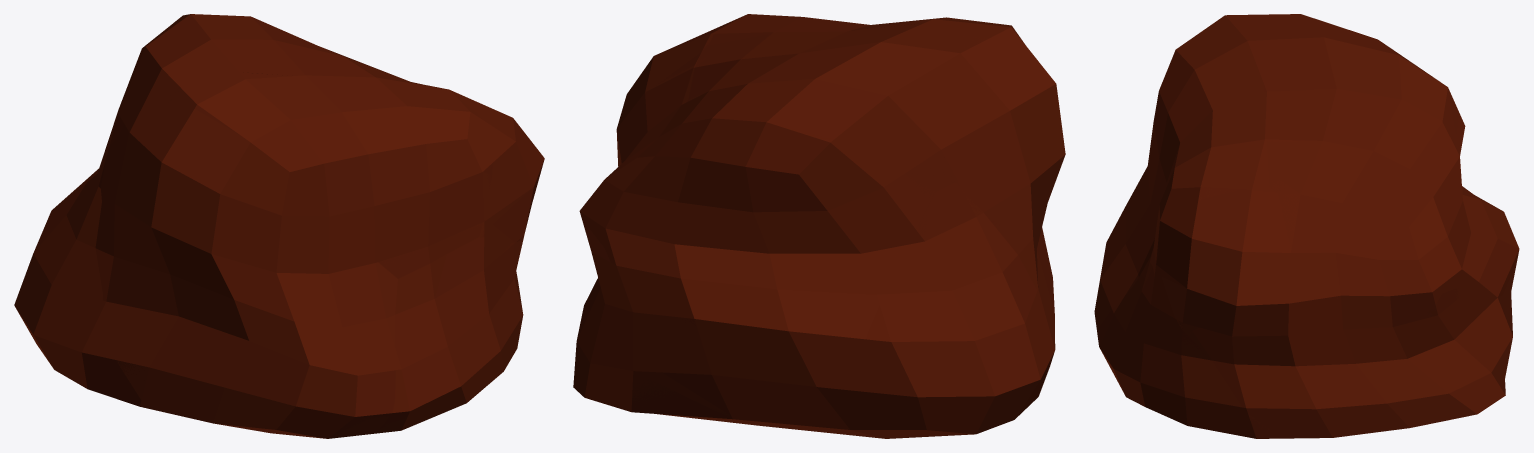
File: redRock breakable.fbx
The picture shows the model from 3 angles, left to right: view 1: azimuth 30°, elevation 25°; view 2: azimuth 150°, elevation 25°; view 3: azimuth 270°, elevation 25°; orthographic projection. The views are drawn at different scales.
Parts seen in each view (by area): view 1: redRock, redRock_cell.004, redRock_cell, redRock_cell.009, redRock_cell.001, redRock_cell.006, redRock_cell.002; view 2: redRock, redRock_cell.005, redRock_cell.001, redRock_cell.006, redRock_cell.004, redRock_cell.007, redRock_cell.003, redRock_cell.009, redRock_cell.002; view 3: redRock, redRock_cell.006, redRock_cell, redRock_cell.009, redRock_cell.003, redRock_cell.002, redRock_cell.004, redRock_cell.007, redRock_cell.008, redRock_cell.005.
Boxes of the visible parts, bbox=[...] form: redRock: bbox=[14, 14, 544, 438]; redRock_cell.004: bbox=[101, 124, 397, 438]; redRock_cell: bbox=[375, 237, 523, 433]; redRock_cell.009: bbox=[173, 72, 492, 278]; redRock_cell.001: bbox=[15, 145, 145, 407]; redRock_cell.006: bbox=[109, 39, 429, 145]; redRock_cell.002: bbox=[441, 88, 544, 242]; redRock: bbox=[573, 17, 1065, 438]; redRock_cell.005: bbox=[656, 122, 935, 421]; redRock_cell.001: bbox=[748, 182, 1055, 436]; redRock_cell.006: bbox=[670, 23, 991, 185]; redRock_cell.004: bbox=[961, 108, 1054, 320]; redRock_cell.007: bbox=[578, 228, 750, 424]; redRock_cell.003: bbox=[645, 53, 700, 131]; redRock_cell.009: bbox=[714, 14, 1013, 34]; redRock_cell.002: bbox=[645, 30, 717, 90]; redRock: bbox=[1099, 14, 1519, 438]; redRock_cell.006: bbox=[1261, 14, 1393, 195]; redRock_cell: bbox=[1097, 267, 1269, 438]; redRock_cell.009: bbox=[1150, 15, 1267, 273]; redRock_cell.003: bbox=[1278, 193, 1434, 362]; redRock_cell.002: bbox=[1154, 187, 1289, 333]; redRock_cell.004: bbox=[1094, 166, 1156, 334]; redRock_cell.007: bbox=[1374, 288, 1507, 393]; redRock_cell.008: bbox=[1190, 251, 1353, 438]; redRock_cell.005: bbox=[1433, 88, 1519, 300].
Size of the model in its own units: 218 by 157 by 195.
